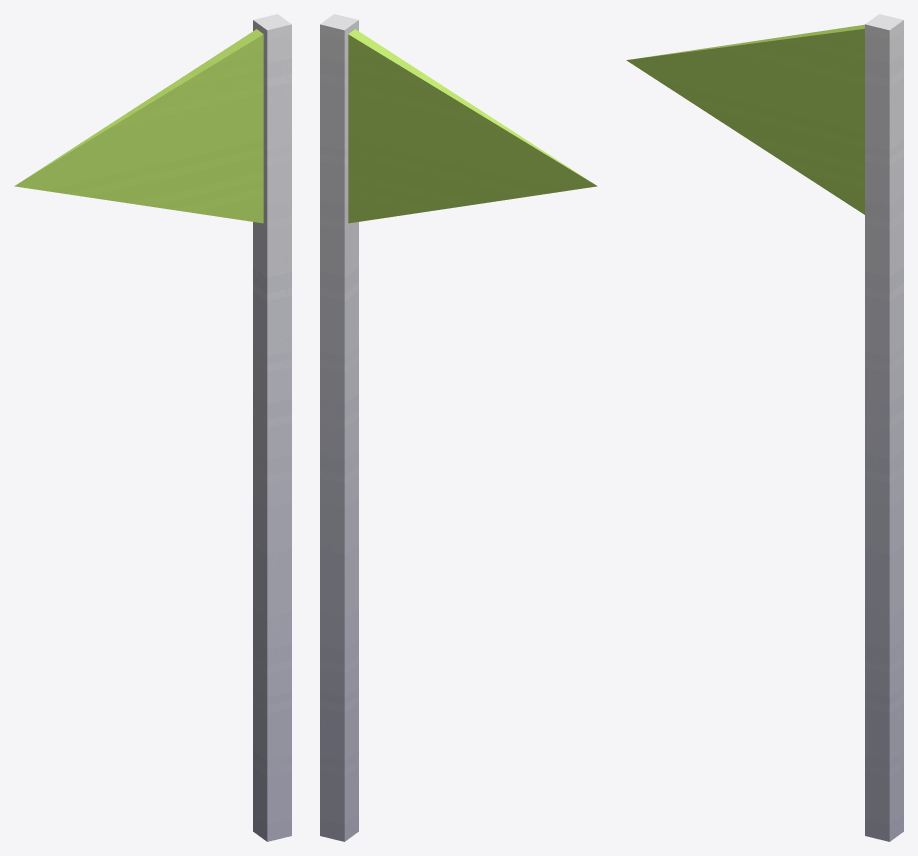
File: flag-green.glb
3 views of the same model, side by side, from view 1: azimuth 30°, elevation 25°; view 2: azimuth 150°, elevation 25°; view 3: azimuth 330°, elevation 25° (orthographic).
Visible parts, largest first — view 1: flag-green; view 2: flag-green; view 3: flag-green.
Part boxes in pixels (x1,y1,x2,y2): flag-green: (14, 14, 291, 841); flag-green: (320, 14, 597, 841); flag-green: (626, 14, 903, 841).
Size of the model in its own units: 0.3666 by 1.05 by 0.0333.
Materials: 1 (1 with a texture image).
